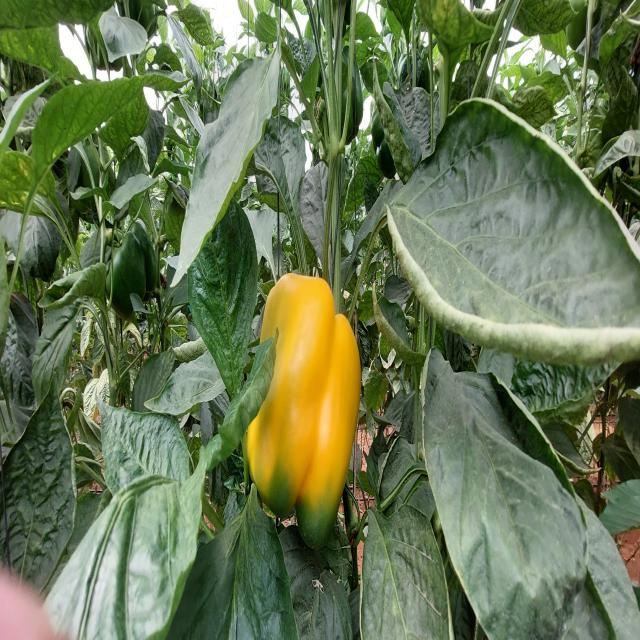Yellow-Ready-to-Harvest: (247, 269, 364, 513)
